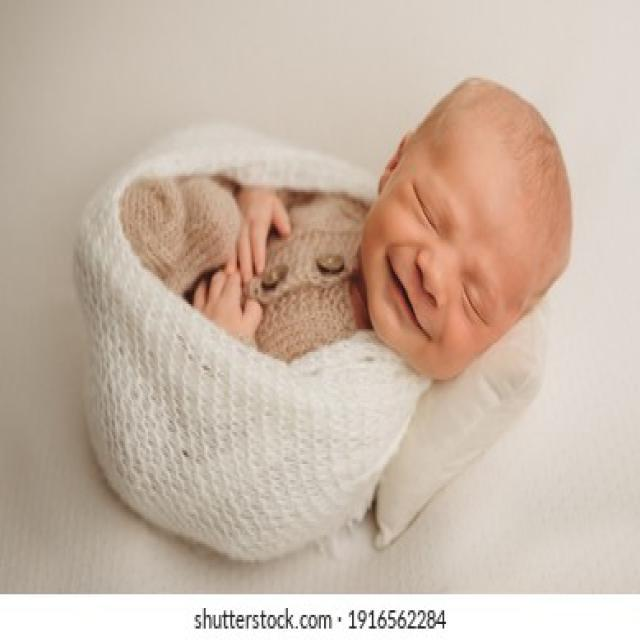non-dog: (72, 76, 577, 564)
